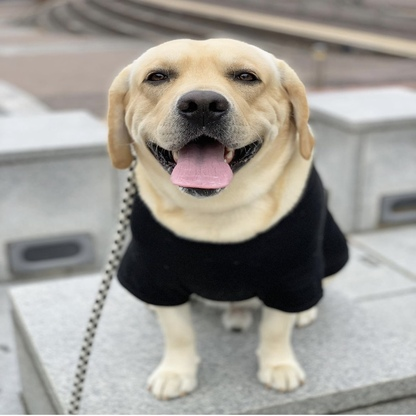labrado: (101, 35, 343, 401)
